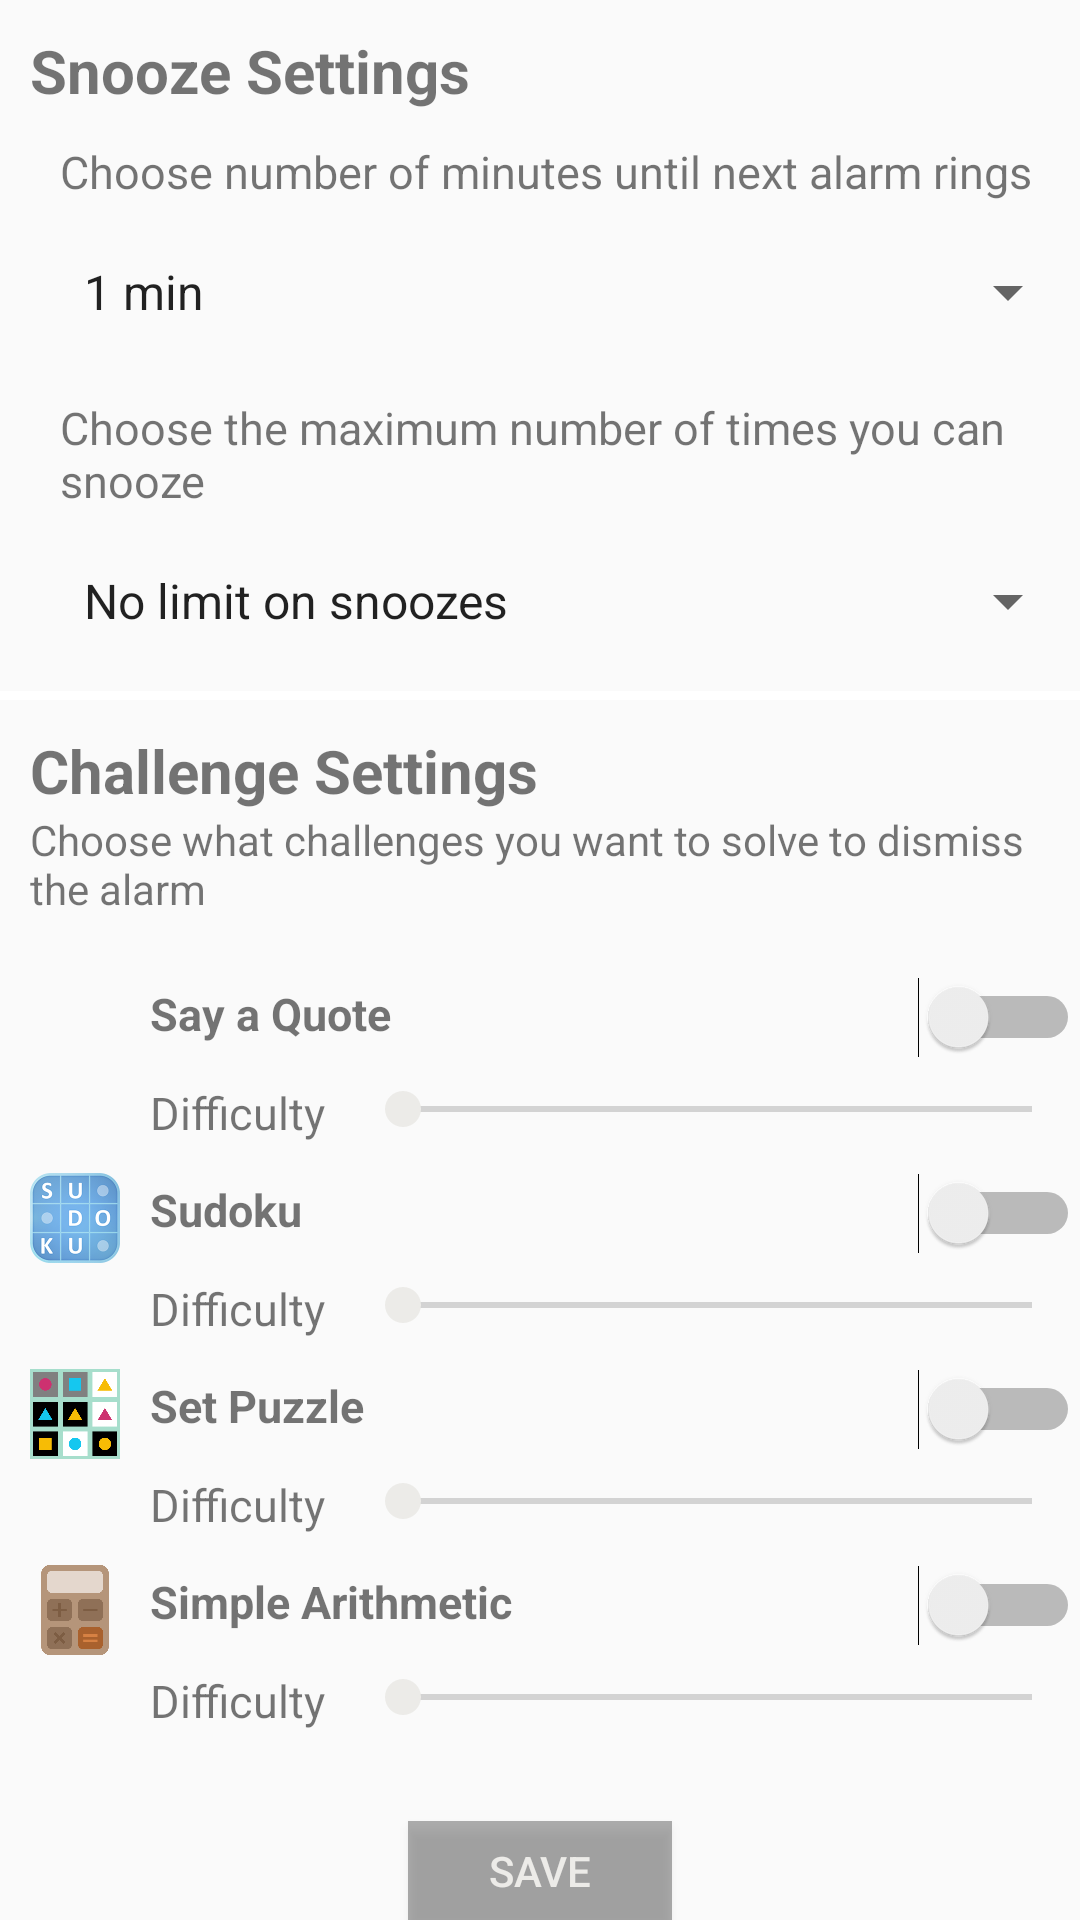

Screen size 1080 × 1920. Icon name, then its box in pixels as (x1, y1, x2, y2):
math: (41, 1565, 109, 1655)
